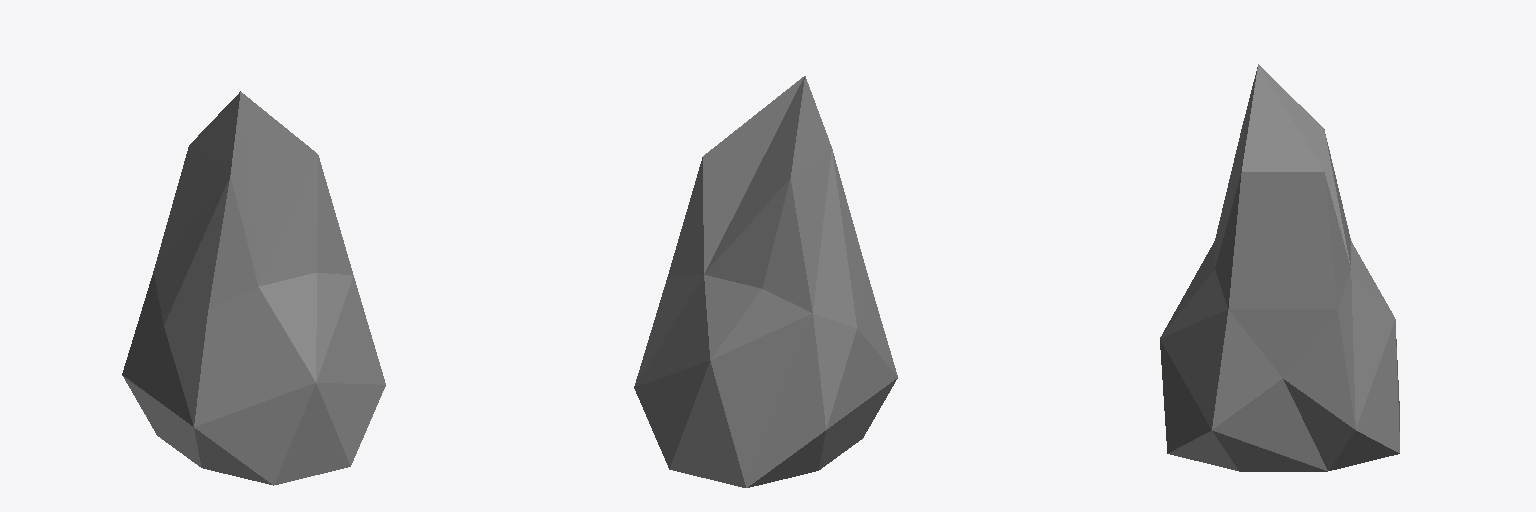
The model's file is Rock.obj.
The picture shows the model from 3 angles: view 1: azimuth 30°, elevation 25°; view 2: azimuth 150°, elevation 25°; view 3: azimuth 270°, elevation 25°; orthographic projection.
Visible parts, largest first — view 1: Hedra001; view 2: Hedra001; view 3: Hedra001.
Boxes of the visible parts, <box> form: Hedra001: <box>122,91,385,485</box>; Hedra001: <box>634,76,897,487</box>; Hedra001: <box>1160,64,1399,471</box>.
Bounding box in the file's own units: 26.79 × 47.7 × 29.03.